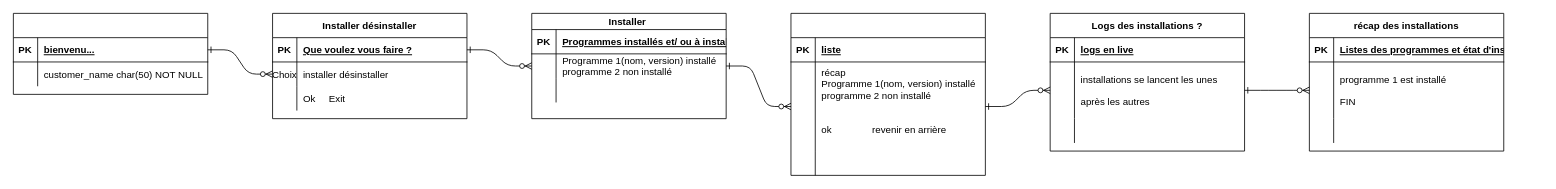
Image size: 1556x189. Some labels were removed from this diagram. The box of each missing label's shape, as (x1, y1, x2, y2) in pixels:
Page de garde: (13, 13, 208, 94)
récapitulatif des choix qui ont été faits: (790, 13, 985, 175)
